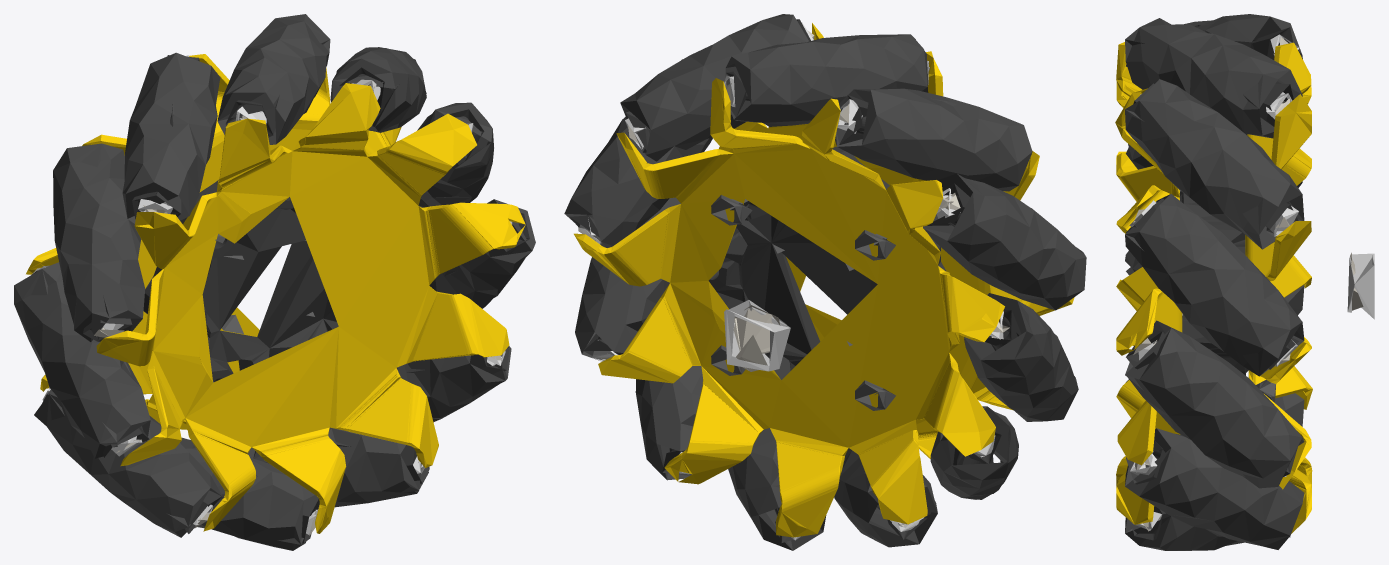
File: wheelBR.glb
3 views of the same model, side by side, from view 1: azimuth 30°, elevation 25°; view 2: azimuth 150°, elevation 25°; view 3: azimuth 270°, elevation 25° (orthographic).
Parts seen in each view (by area): view 1: wheelBR_3, wheelBR_0, wheelBR_4, wheelBR_2; view 2: wheelBR_3, wheelBR_0, wheelBR_4, wheelBR_2, wheelBR_1, wheelBR_5; view 3: wheelBR_0, wheelBR_3, wheelBR_4, wheelBR_2, wheelBR_5.
Boxes of the visible parts, <box> form: wheelBR_3: <box>26,54,525,533</box>; wheelBR_0: <box>14,14,535,550</box>; wheelBR_4: <box>32,55,529,542</box>; wheelBR_2: <box>39,55,505,534</box>; wheelBR_3: <box>574,23,1074,537</box>; wheelBR_0: <box>564,14,1086,550</box>; wheelBR_4: <box>569,19,1031,542</box>; wheelBR_2: <box>578,23,1029,540</box>; wheelBR_1: <box>711,195,895,410</box>; wheelBR_5: <box>578,31,1009,526</box>; wheelBR_0: <box>1125,14,1304,550</box>; wheelBR_3: <box>1115,42,1312,533</box>; wheelBR_4: <box>1126,27,1299,540</box>; wheelBR_2: <box>1129,34,1374,530</box>; wheelBR_5: <box>1133,37,1363,531</box>.
Size of the model in its own units: 4.08 by 4.08 by 1.97.
